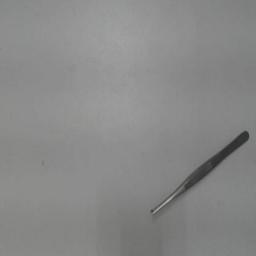Gillies Toothed Dissector: (148, 128, 252, 220)
